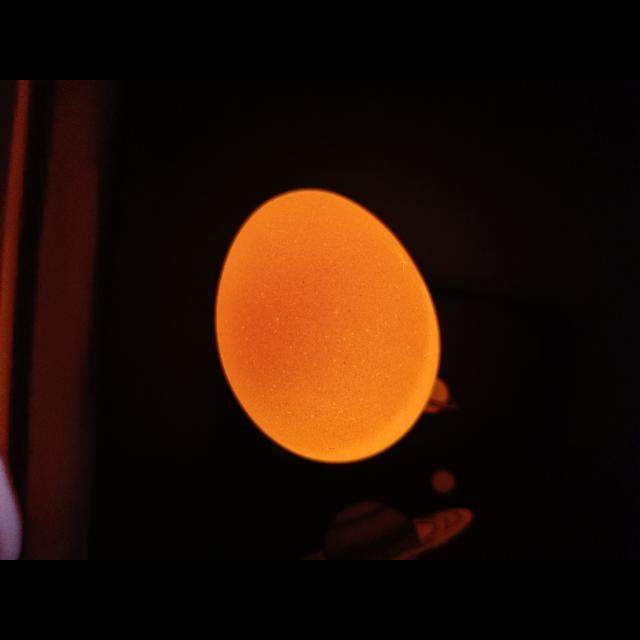AA - Premium: (215, 190, 440, 463)
